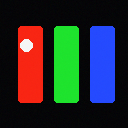2 circle: (20, 39, 32, 51)
